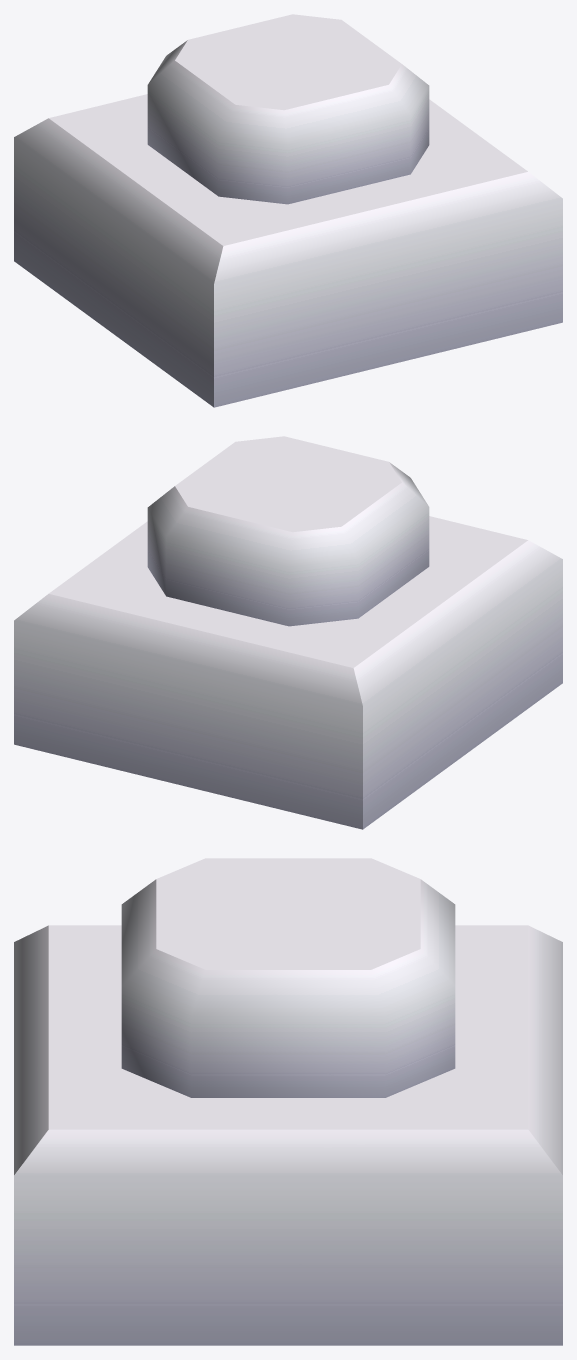
File: bevel-hq-plate-1x1.glb
3 renders of one model, top to bottom at view 1: azimuth 30°, elevation 25°; view 2: azimuth 150°, elevation 25°; view 3: azimuth 270°, elevation 25°, orthographic. The views are drawn at different scales.
Visible parts, largest first — view 1: bevel-hq-plate-1x1; view 2: bevel-hq-plate-1x1; view 3: bevel-hq-plate-1x1.
Part boxes in pixels (x1,y1,x2,y2): bevel-hq-plate-1x1: (14,14,562,407); bevel-hq-plate-1x1: (14,436,562,829); bevel-hq-plate-1x1: (14,858,562,1345).
Size of the model in its own units: 0.0795 by 0.05 by 0.079.
1 material, 1 textured.
